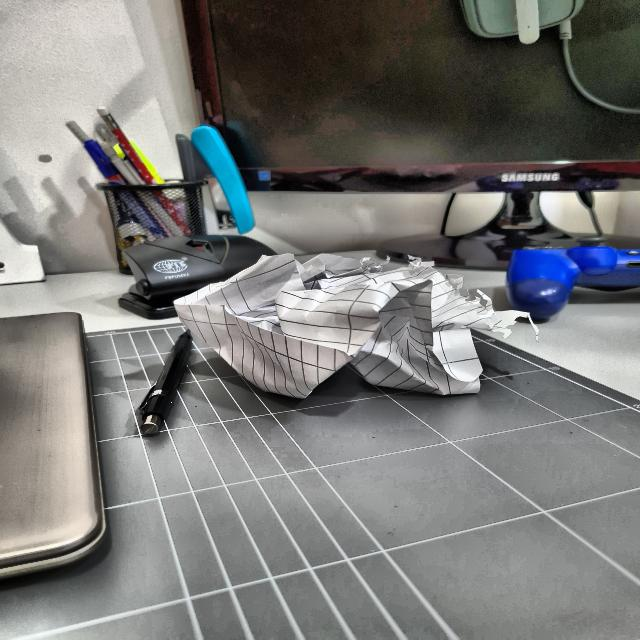Paper: (174, 261, 515, 399)
